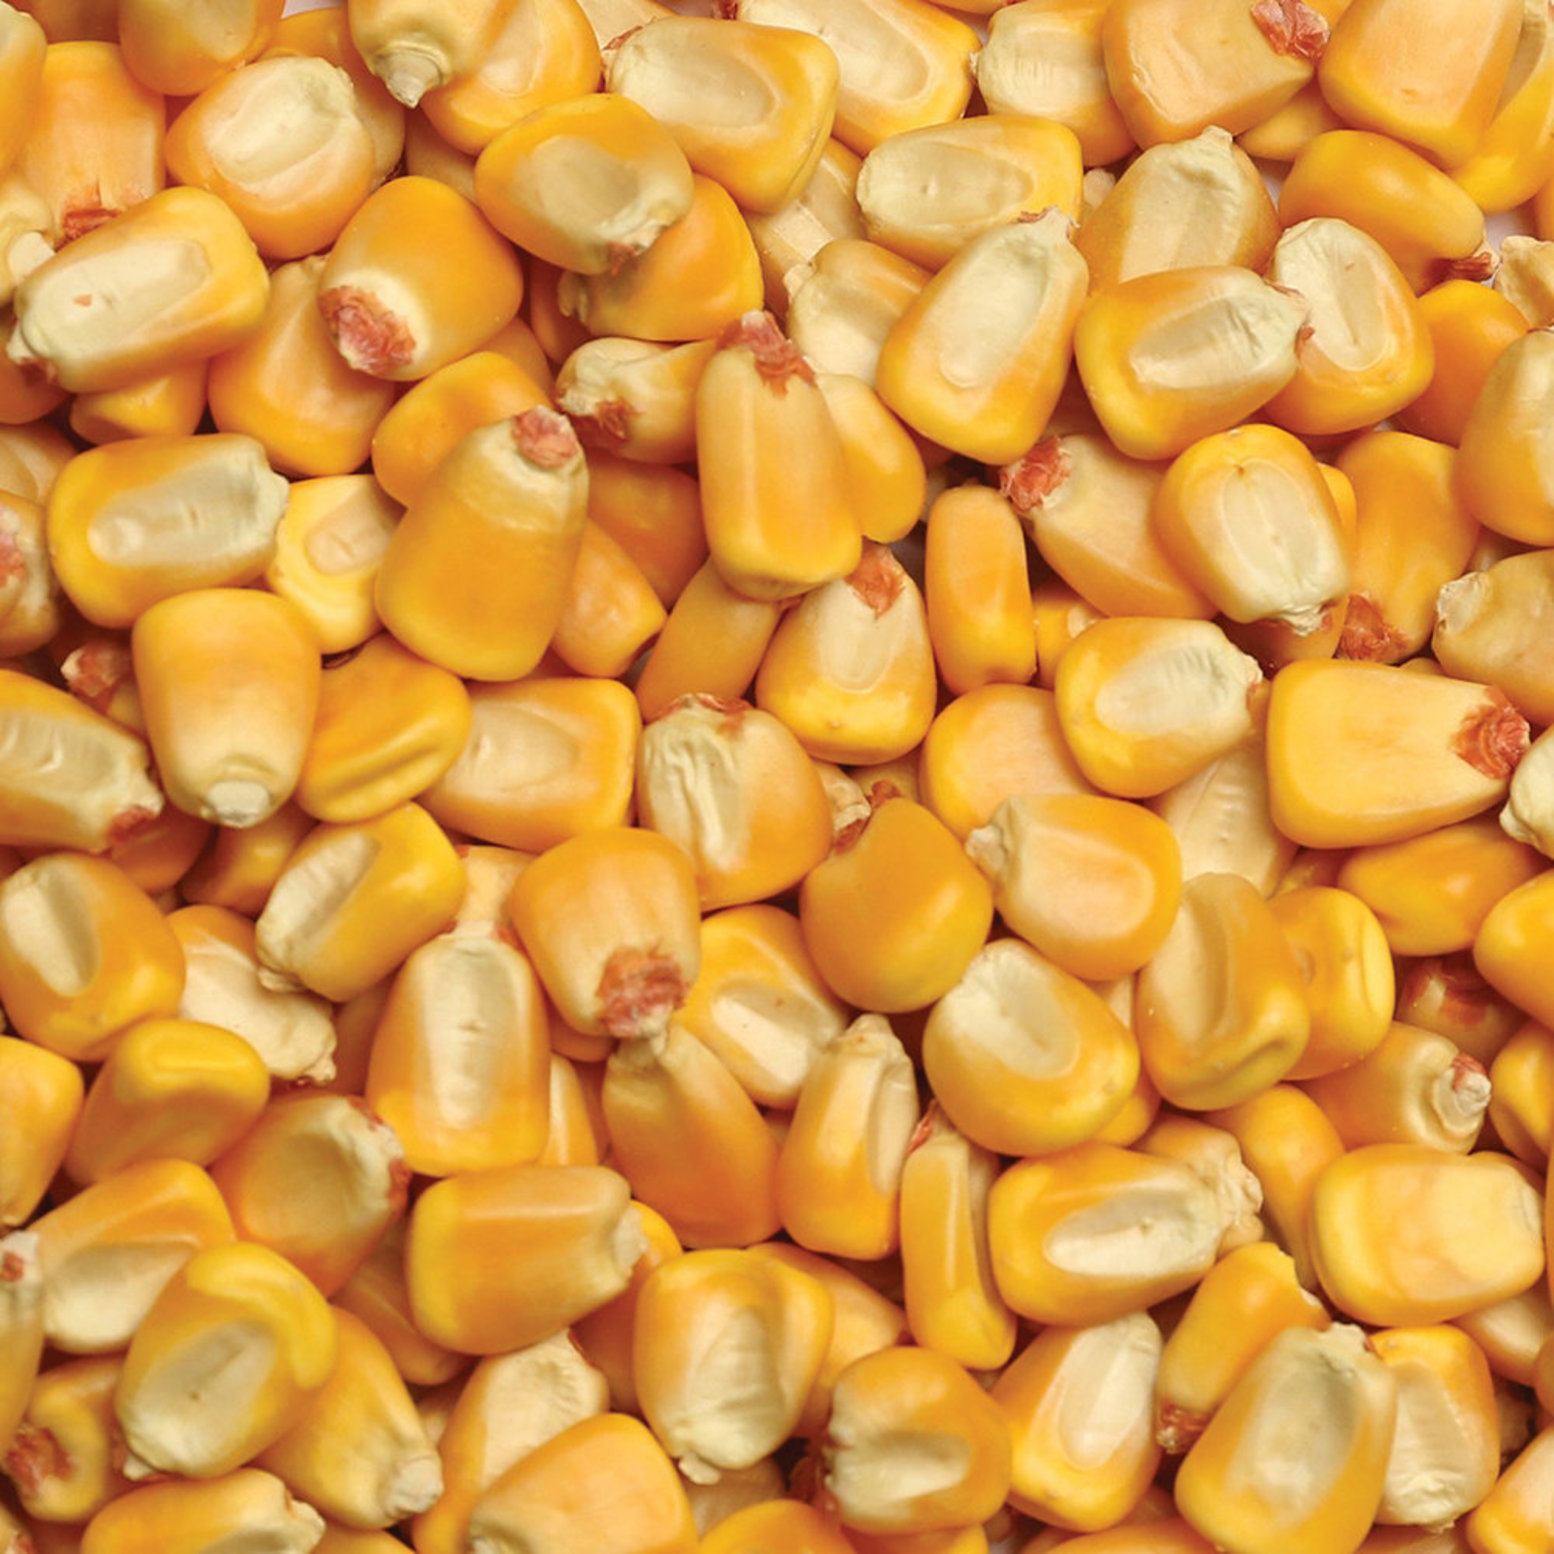corn: (371, 400, 589, 684), (877, 202, 1090, 470), (1264, 657, 1537, 855), (13, 184, 270, 393), (697, 303, 877, 601), (129, 576, 329, 834), (37, 440, 290, 628), (403, 1158, 639, 1356), (985, 1138, 1222, 1329), (647, 1242, 837, 1479), (371, 934, 555, 1175), (1148, 423, 1352, 639), (961, 787, 1190, 979), (1304, 1146, 1550, 1322), (468, 95, 693, 277), (1047, 613, 1261, 803), (508, 832, 702, 1035)
